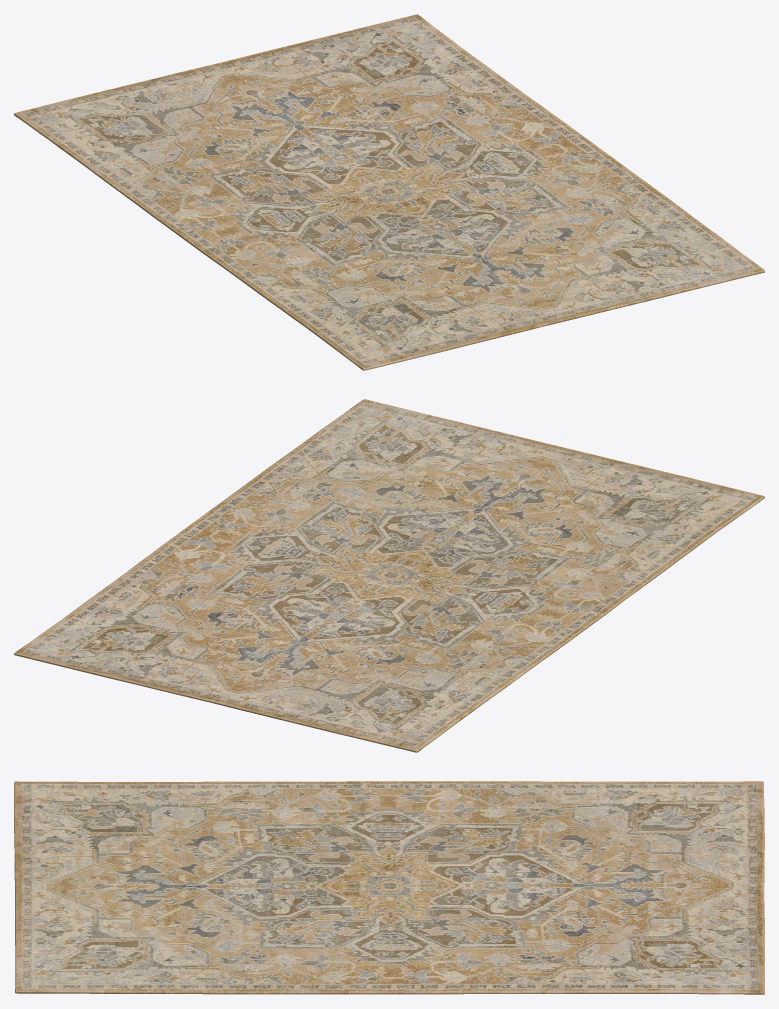
File: 08 - JÄRNVÄG Rug, low pile - ornament pattern beigedark beige 200x300 cm.glb
The picture shows the model from 3 angles, top to bottom: view 1: azimuth 30°, elevation 25°; view 2: azimuth 150°, elevation 25°; view 3: azimuth 270°, elevation 25°; orthographic projection. The views are drawn at different scales.
Visible parts, largest first — view 1: 001; view 2: 001; view 3: 001.
Part boxes in pixels (bbox=[...]): 001: bbox=[14, 14, 764, 370]; 001: bbox=[14, 399, 764, 752]; 001: bbox=[14, 781, 764, 994].
Bounding box in the file's own units: 2 × 0.00979 × 3.
Materials: 2 (2 with a texture image).
